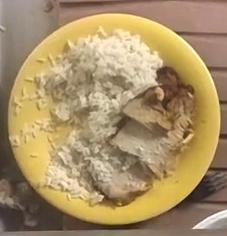pork: (112, 67, 194, 178), (82, 142, 152, 205)
rice: (37, 30, 163, 143), (46, 126, 99, 201)
